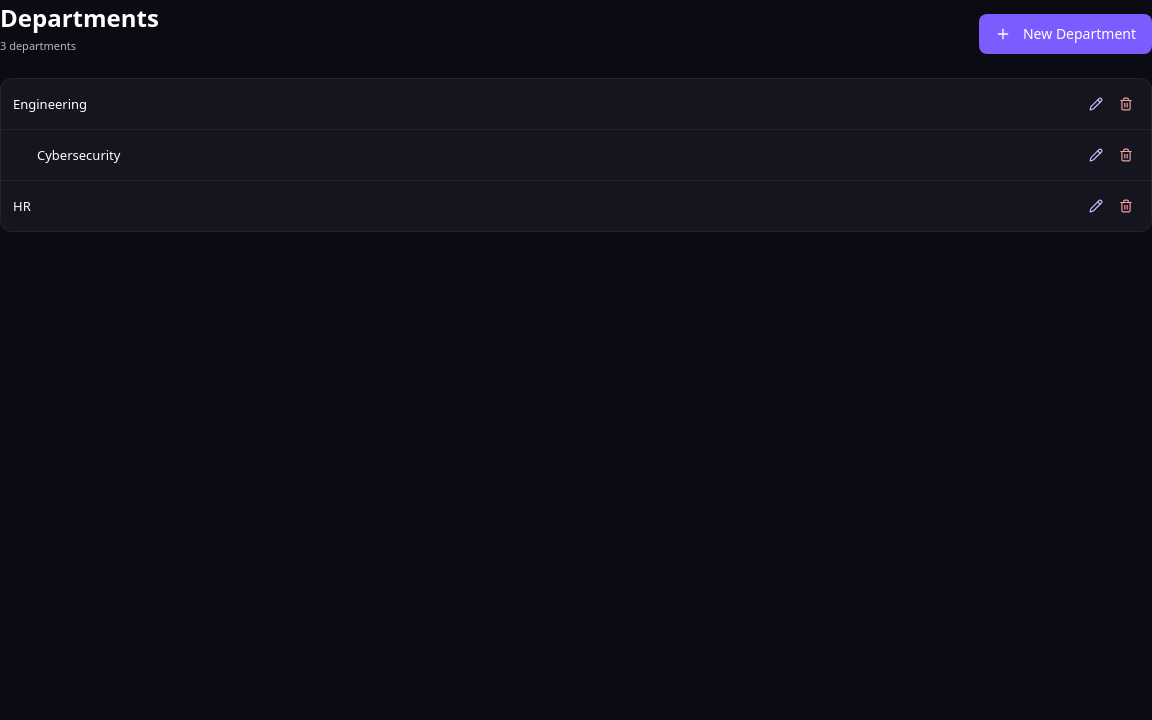
Test case: DepartmentsAdminPage › shows error on delete failure (e.g., active employees)
The image size is (1152, 720).
Expected: the text "Engineering" is shown, [13,94,87,114]
# Open the confirm dialog by clicking the trash icon on the Engineering row.
Click the button named "delete engineering". click: (1126, 104)
box: [1113,91,1139,117]
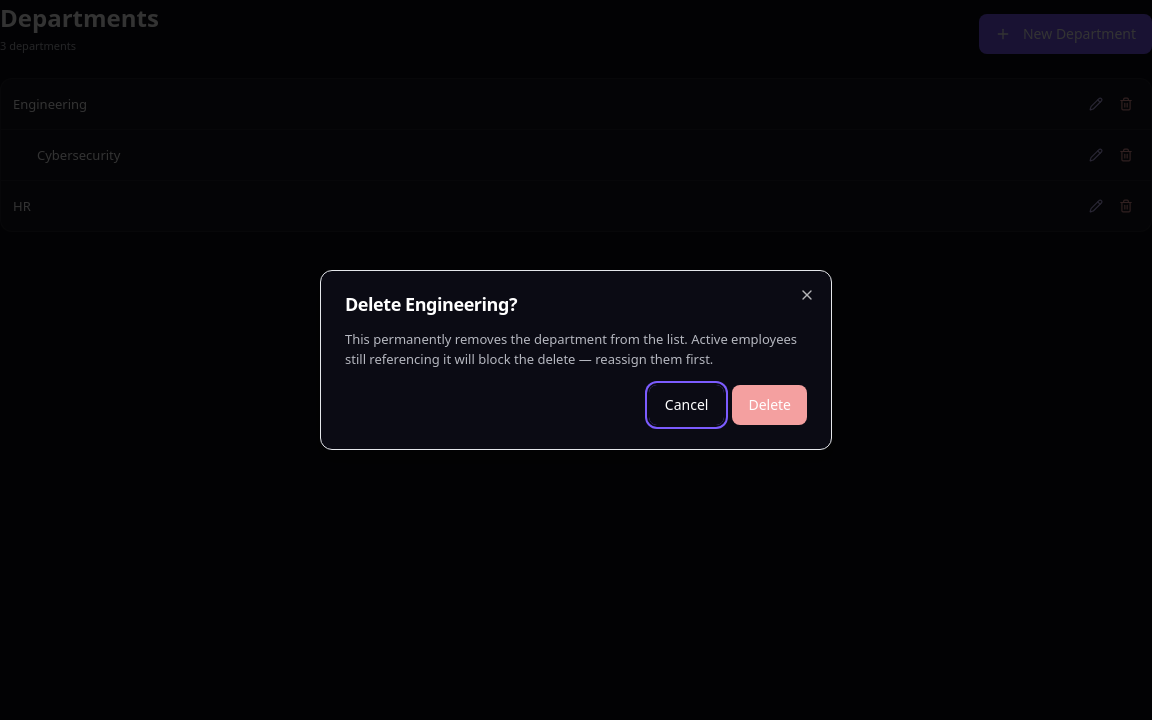
# Modal should open with a Delete button — click it to fire the delete.
Click the button "Delete". click: (770, 405)
box: [732,385,807,425]
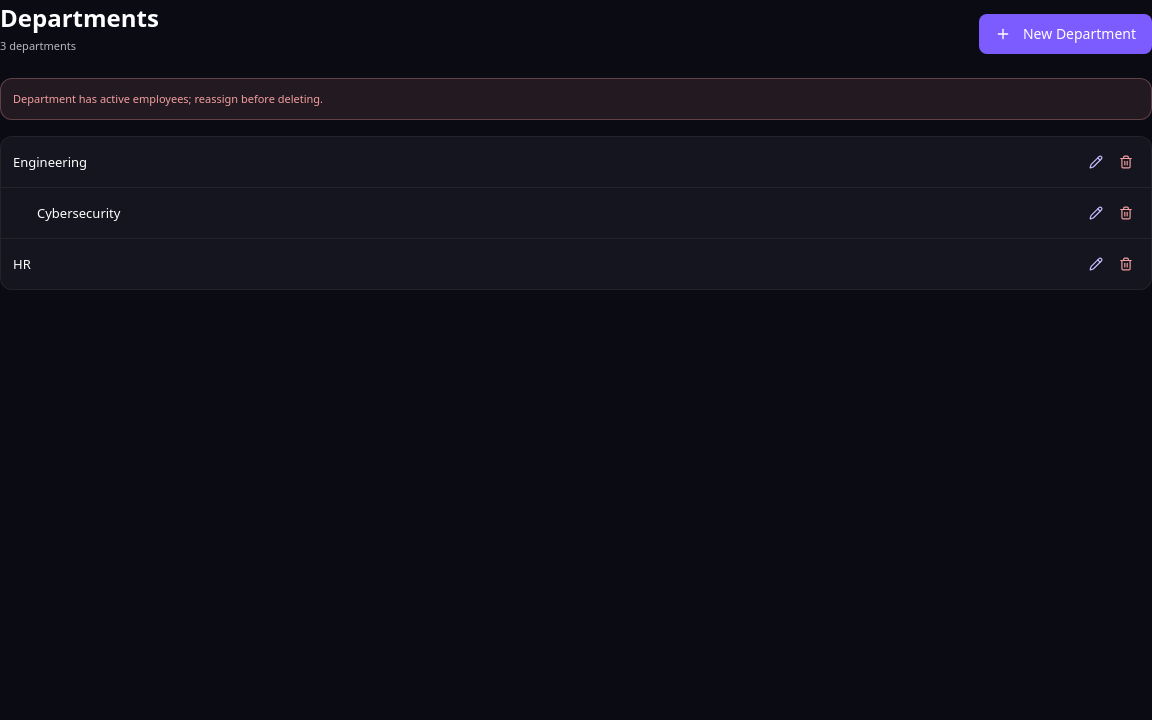
Now the message shows "reassign", box [13,91,323,106]
